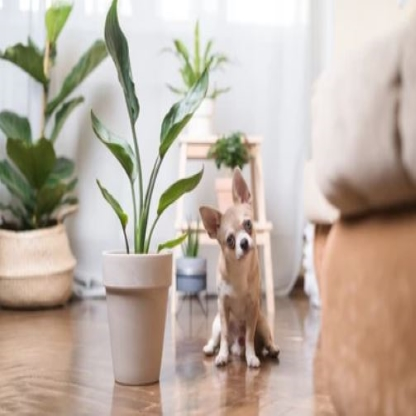chihuahua: (192, 164, 282, 369)
